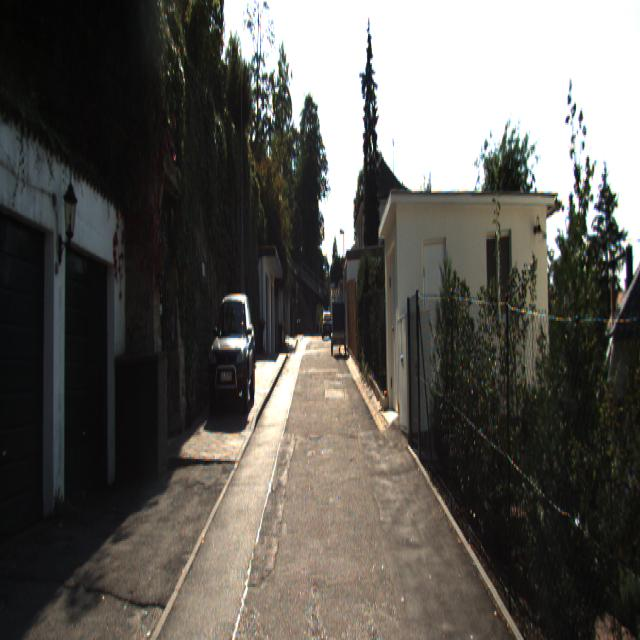Car: (206, 300, 258, 416), (330, 299, 347, 356)
